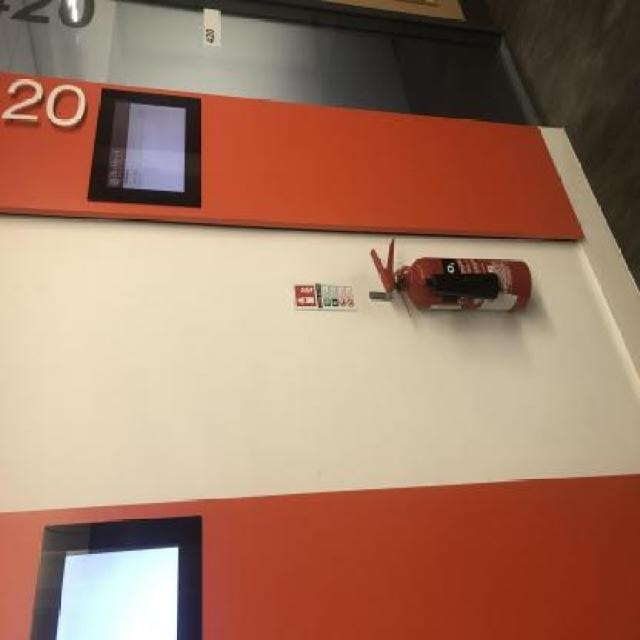fire extinguisher: (370, 237, 532, 314)
